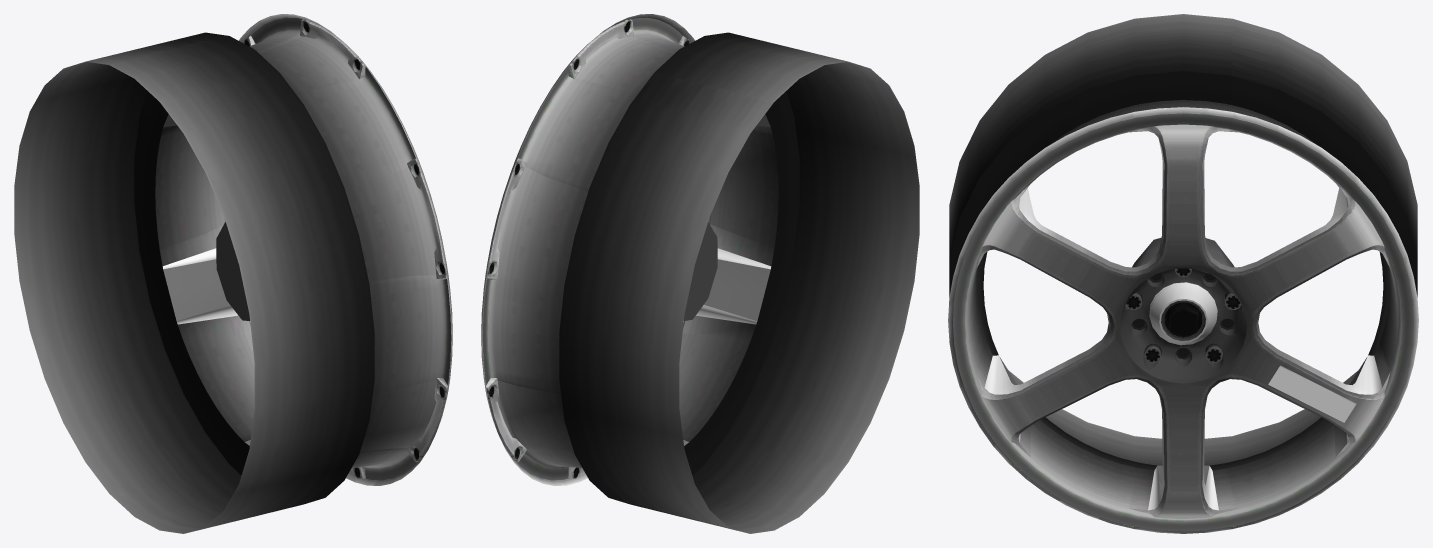
File: wheel41.fbx
3 views of the same model, side by side, from view 1: azimuth 30°, elevation 25°; view 2: azimuth 150°, elevation 25°; view 3: azimuth 270°, elevation 25° (orthographic). The views are drawn at different scales.
Visible parts, largest first — view 1: enk_rs6_wheel_wheel_inner_rim_, wheel_rim, enk_rs6_wheel_wheel_rim_; view 2: enk_rs6_wheel_wheel_inner_rim_, wheel_rim, enk_rs6_wheel_wheel_rim_; view 3: enk_rs6_wheel_wheel_rim_, enk_rs6_wheel_wheel_inner_rim_, wheel_rim, enk_rs6_wheel_wheel_chrome_rim_, enk_rs6_wheel_wheel_wheel_emblem_.
Boxes of the visible parts, <box> form: enk_rs6_wheel_wheel_inner_rim_: <box>14,32,374,533</box>; wheel_rim: <box>155,14,452,485</box>; enk_rs6_wheel_wheel_rim_: <box>155,14,452,485</box>; enk_rs6_wheel_wheel_inner_rim_: <box>559,32,919,533</box>; wheel_rim: <box>481,14,778,485</box>; enk_rs6_wheel_wheel_rim_: <box>481,14,777,485</box>; enk_rs6_wheel_wheel_rim_: <box>948,104,1418,533</box>; enk_rs6_wheel_wheel_inner_rim_: <box>949,14,1417,484</box>; wheel_rim: <box>949,100,1418,533</box>; enk_rs6_wheel_wheel_chrome_rim_: <box>1120,269,1246,383</box>; enk_rs6_wheel_wheel_wheel_emblem_: <box>1268,365,1356,422</box>.
Bounding box in the file's own units: 0.2424 × 0.48 × 0.48.
1 material, 1 textured.
